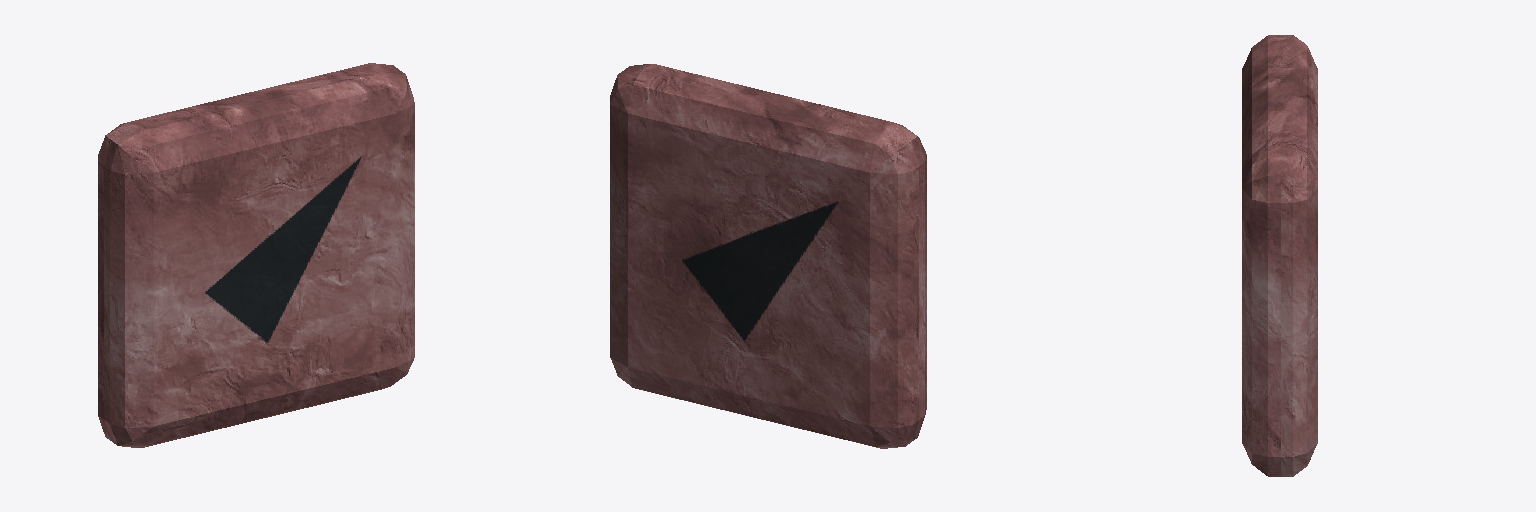
3 views of the same model, side by side, from view 1: azimuth 30°, elevation 25°; view 2: azimuth 150°, elevation 25°; view 3: azimuth 270°, elevation 25° (orthographic).
Parts seen in each view (by area): view 1: Cube; view 2: Cube; view 3: Cube.
Boxes of the visible parts, box(x1,y1,x2,y2) form: Cube: box(98, 63, 414, 447); Cube: box(610, 64, 926, 448); Cube: box(1242, 35, 1317, 476).
Bounding box in the file's own units: 1 × 1 × 0.2182.
1 materials, 1 textured.